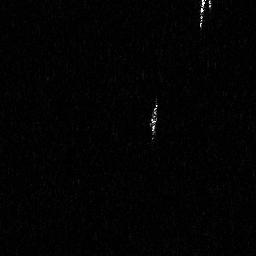ship: (147, 95, 159, 144)
